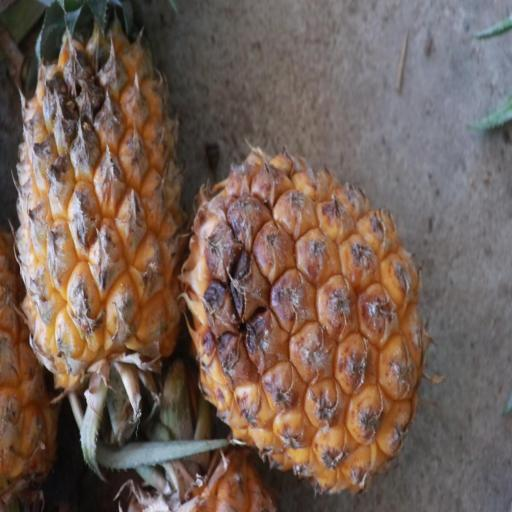Pineapple - v8 v1: (179, 144, 428, 498), (14, 0, 192, 402)
